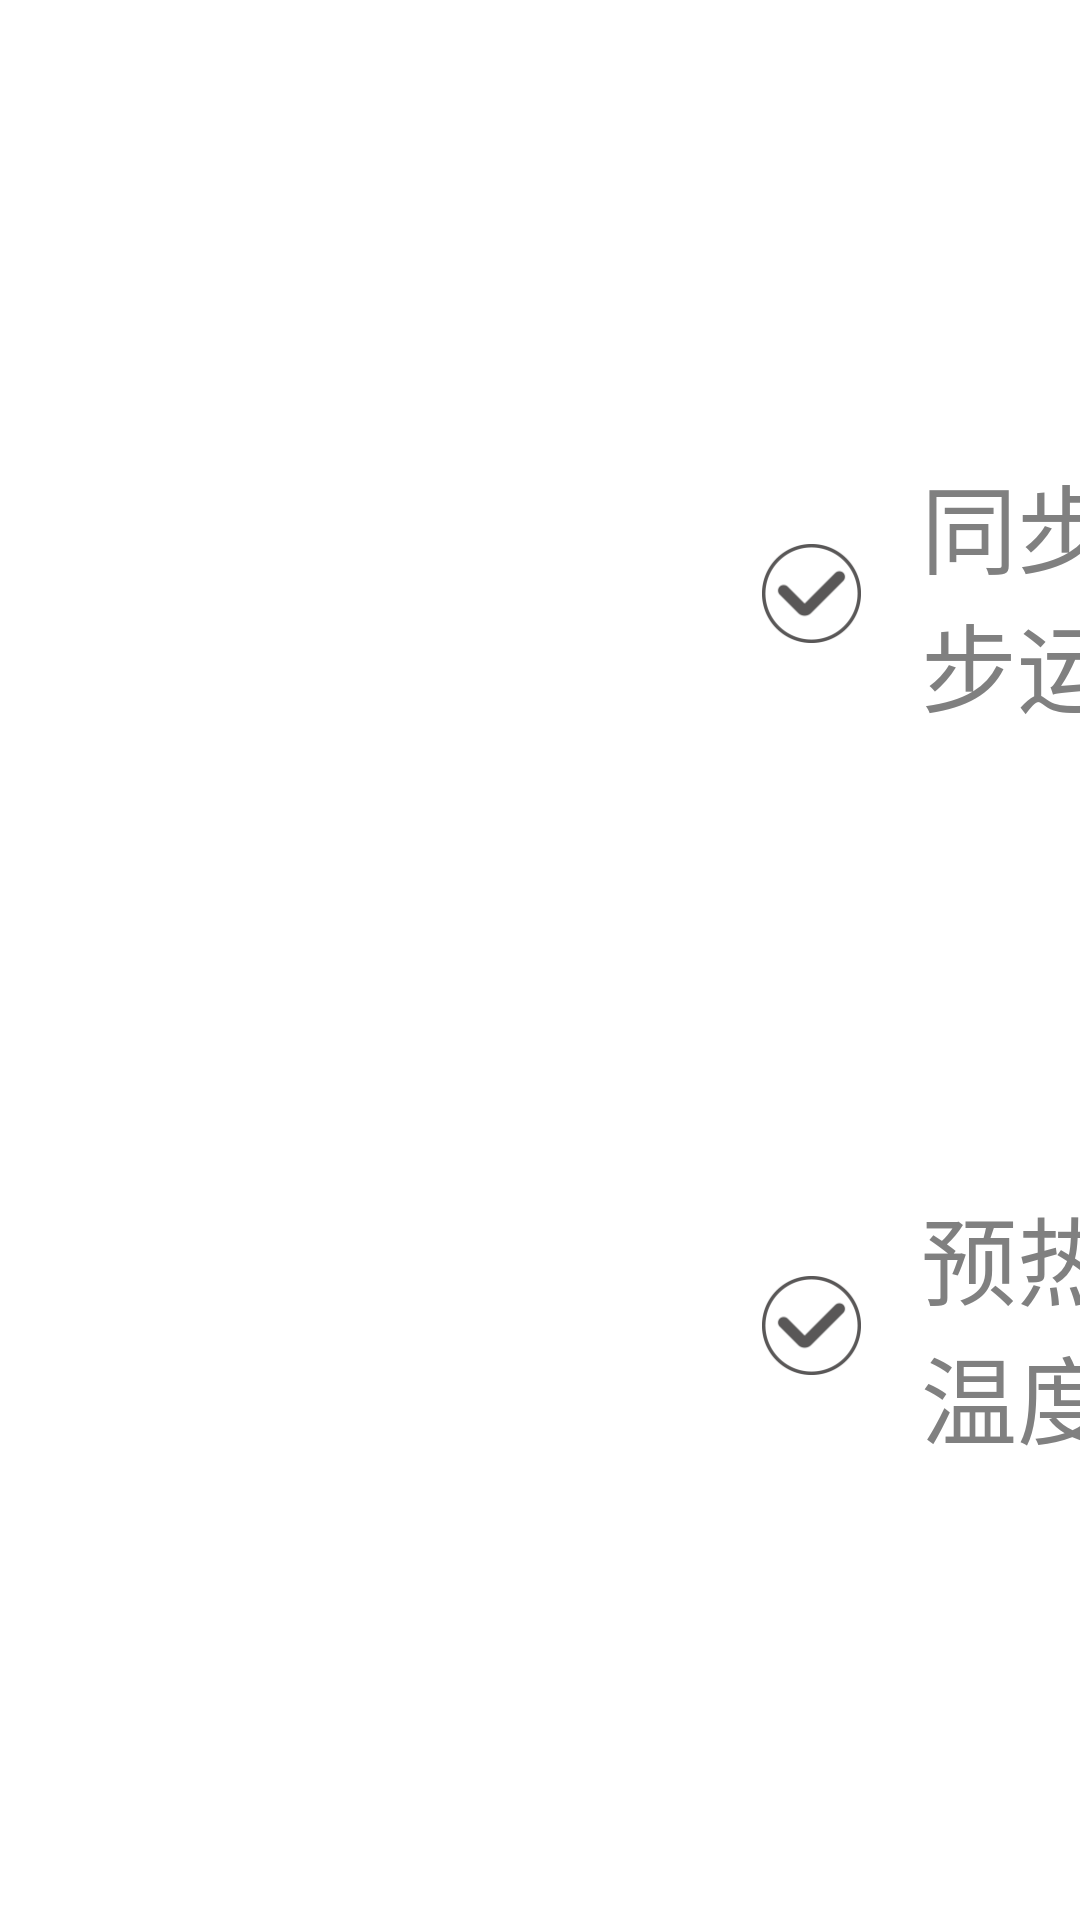

Screen size 1080px×1920px. Icon name, then its box in pixels as Rect(x1, y1, x2, y2):
check select: Rect(762, 544, 861, 643), Rect(762, 1276, 861, 1375)
